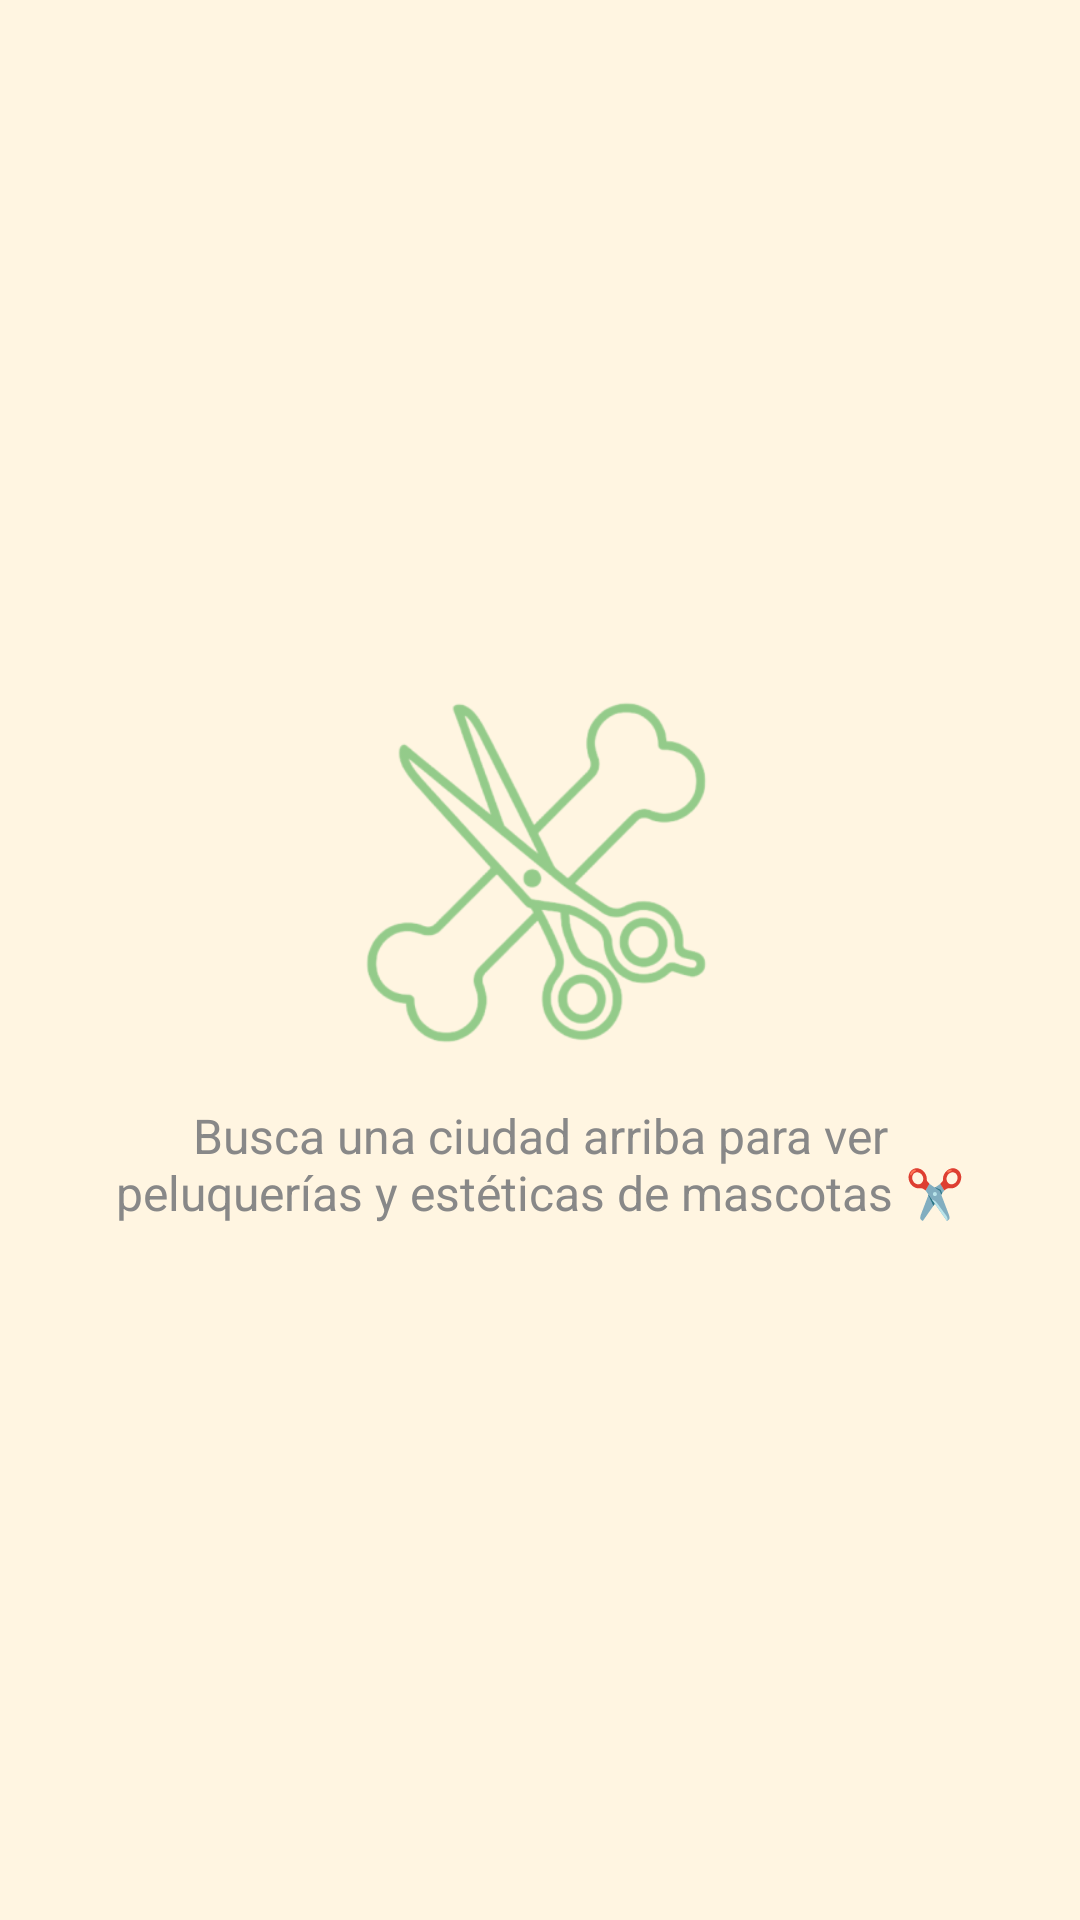

Icon click points for this 1080*1920 phone screenshot, format point (x, y):
peluqueria: point (536, 872)
